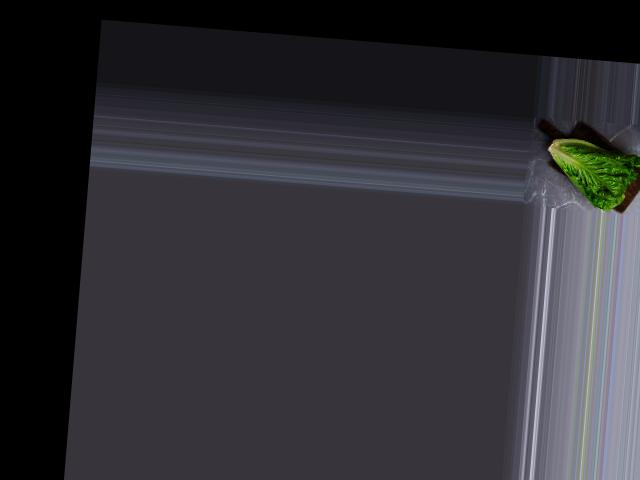lettuce: (539, 125, 640, 212)
